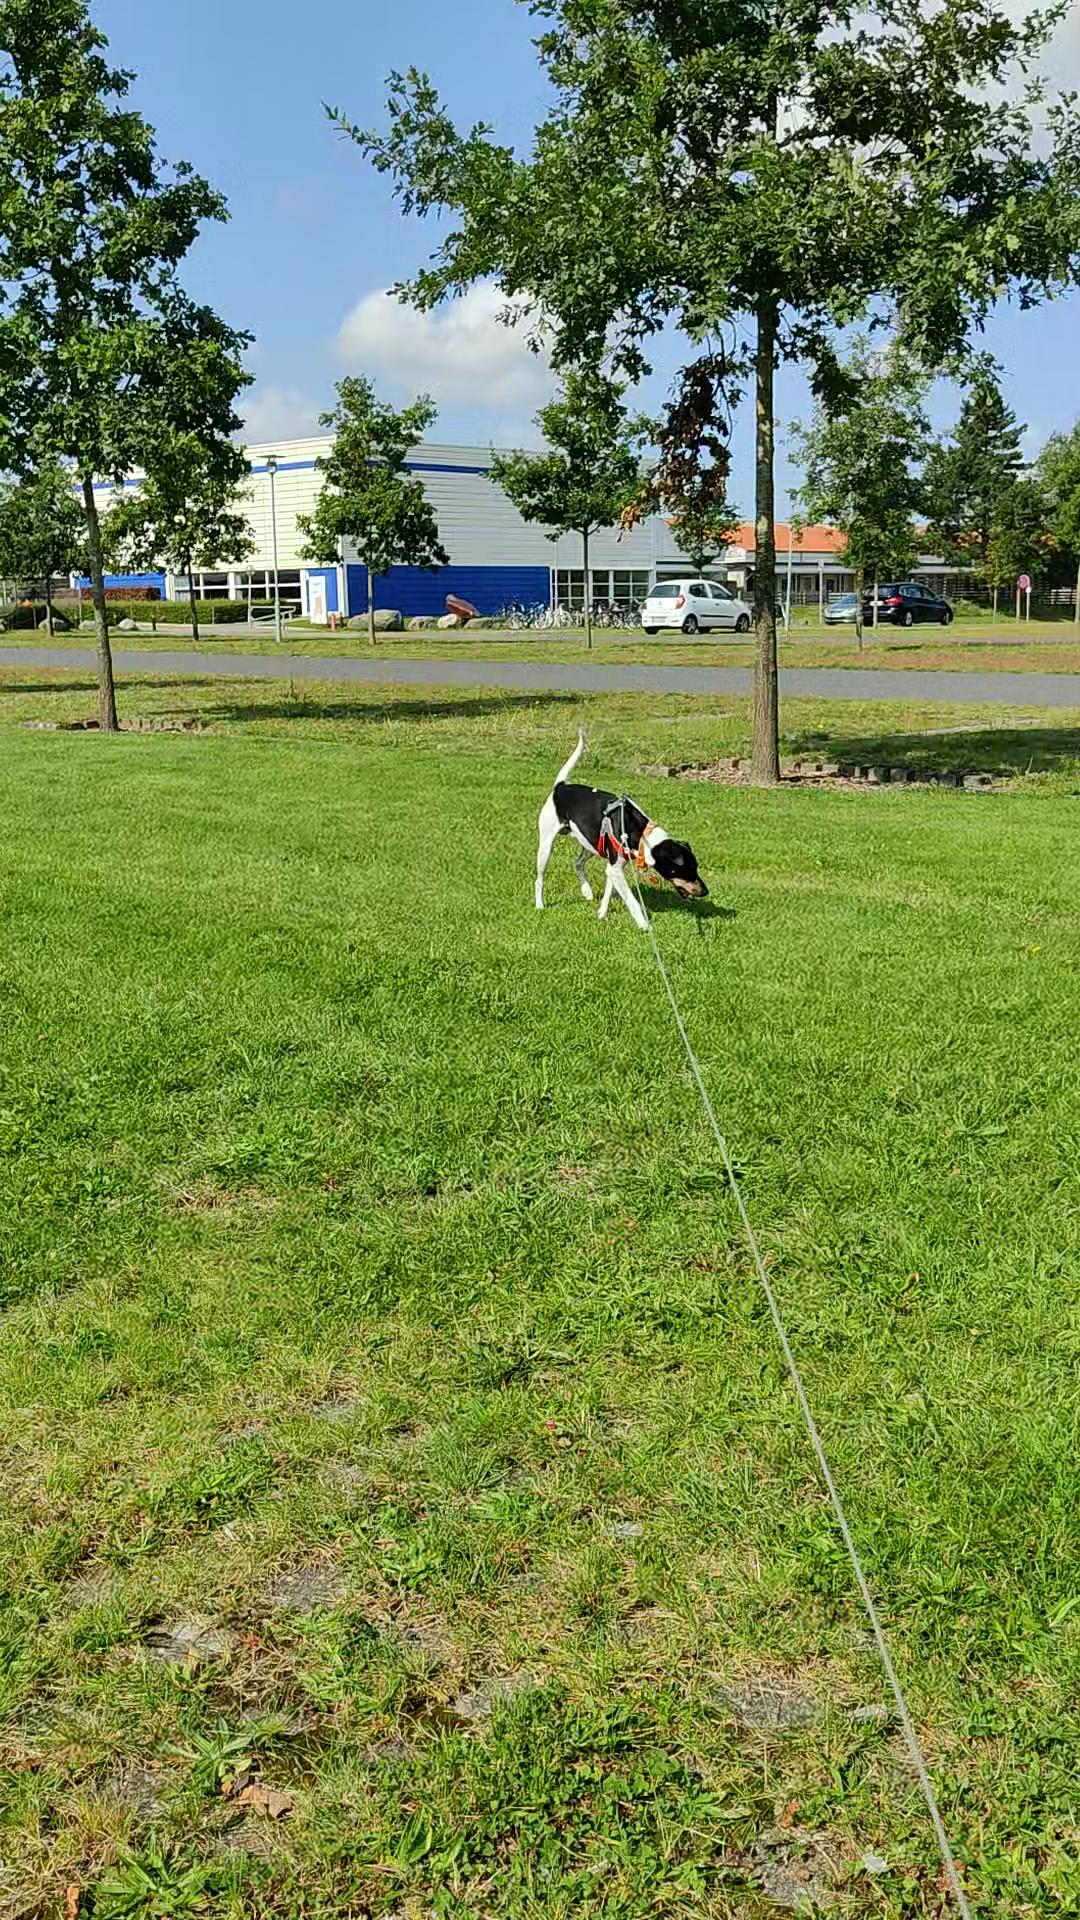Dog: (525, 719, 709, 934)
